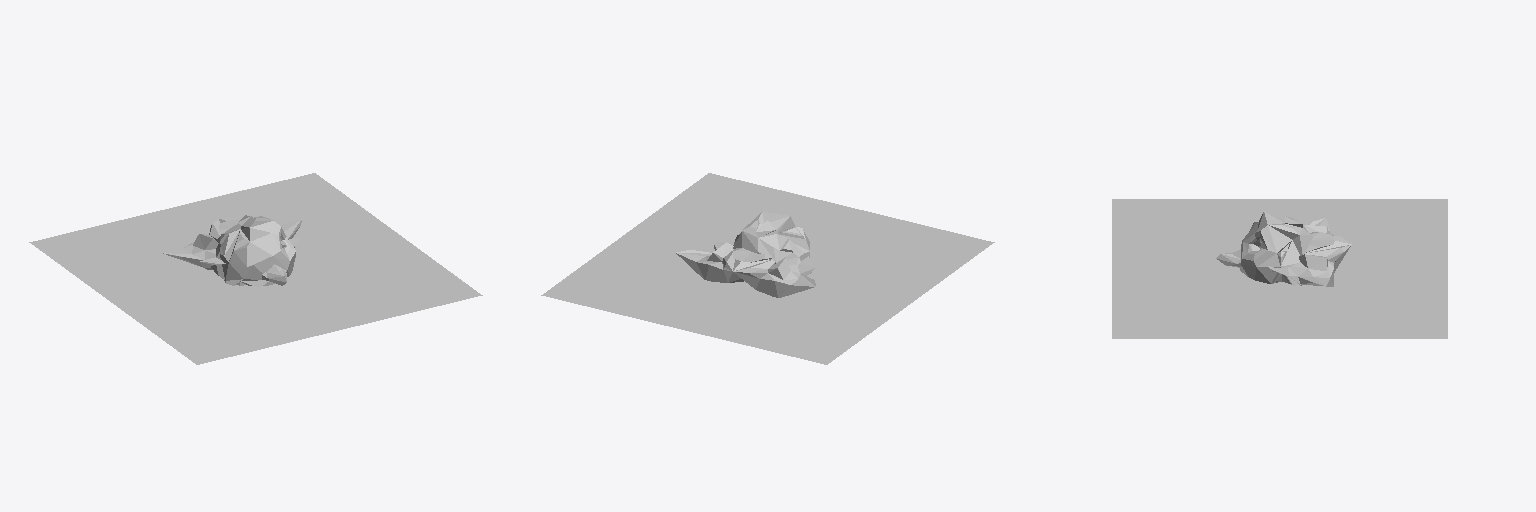
File: meteoro.obj
The picture shows the model from 3 angles: view 1: azimuth 30°, elevation 25°; view 2: azimuth 150°, elevation 25°; view 3: azimuth 270°, elevation 25°; orthographic projection.
Visible parts, largest first — view 1: Plane, METEORI_Icosphere, NAVE_Cube; view 2: Plane, NAVE_Cube, METEORI_Icosphere; view 3: Plane, METEORI_Icosphere, NAVE_Cube.
Boxes of the visible parts, x1=… form: Plane: x1=29, y1=173, x2=482, y2=364; METEORI_Icosphere: x1=211, y1=215, x2=295, y2=286; NAVE_Cube: x1=163, y1=217, x2=301, y2=285; Plane: x1=541, y1=173, x2=994, y2=364; NAVE_Cube: x1=676, y1=240, x2=815, y2=297; METEORI_Icosphere: x1=733, y1=212, x2=812, y2=273; Plane: x1=1112, y1=199, x2=1447, y2=338; METEORI_Icosphere: x1=1240, y1=211, x2=1312, y2=285; NAVE_Cube: x1=1216, y1=218, x2=1351, y2=286.
Size of the model in its own units: 16.39 by 4.25 by 16.66.